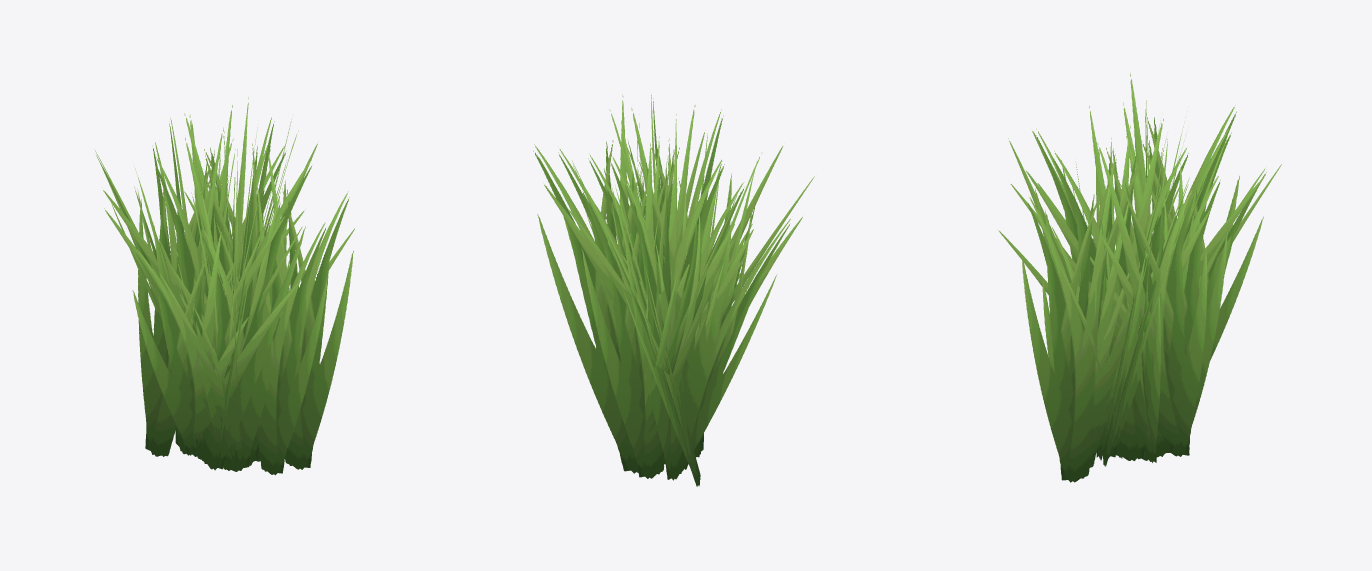
Rendered from grass_a.glb.
3 views of the same model, side by side, from view 1: azimuth 30°, elevation 25°; view 2: azimuth 150°, elevation 25°; view 3: azimuth 270°, elevation 25° (orthographic). The views are drawn at different scales.
Visible parts, largest first — view 1: leaves; view 2: leaves; view 3: leaves.
Boxes of the visible parts, bbox=[...] form: leaves: bbox=[94, 97, 354, 475]; leaves: bbox=[533, 95, 814, 486]; leaves: bbox=[998, 73, 1281, 482].
Size of the model in its own units: 0.4298 by 0.4354 by 0.4429.
Materials: 1 (1 with a texture image).
